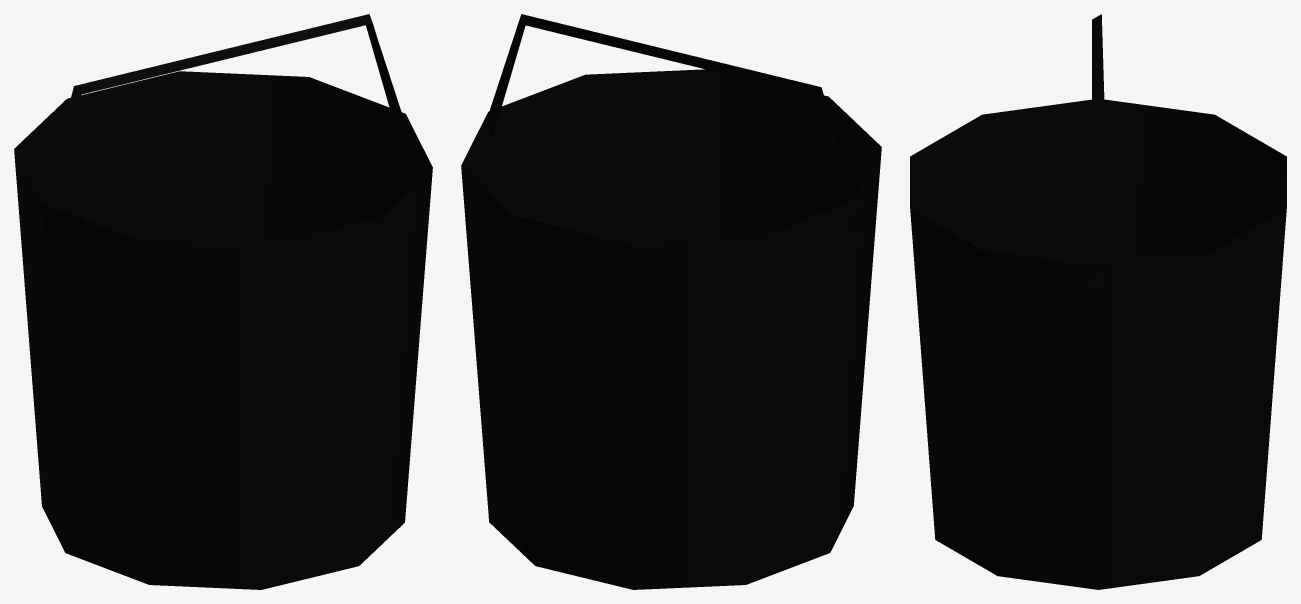
Rendered from SM_bucket.fbx.
The picture shows the model from 3 angles, left to right: view 1: azimuth 30°, elevation 25°; view 2: azimuth 150°, elevation 25°; view 3: azimuth 270°, elevation 25°; orthographic projection. The views are drawn at different scales.
Parts seen in each view (by area): view 1: bucket; view 2: bucket; view 3: bucket.
Part boxes in pixels (x1,y1,x2,y2): bucket: [14, 14, 432, 589]; bucket: [461, 14, 881, 589]; bucket: [910, 14, 1286, 589].
Size of the model in its own units: 0.3083 by 0.3641 by 0.2853.
